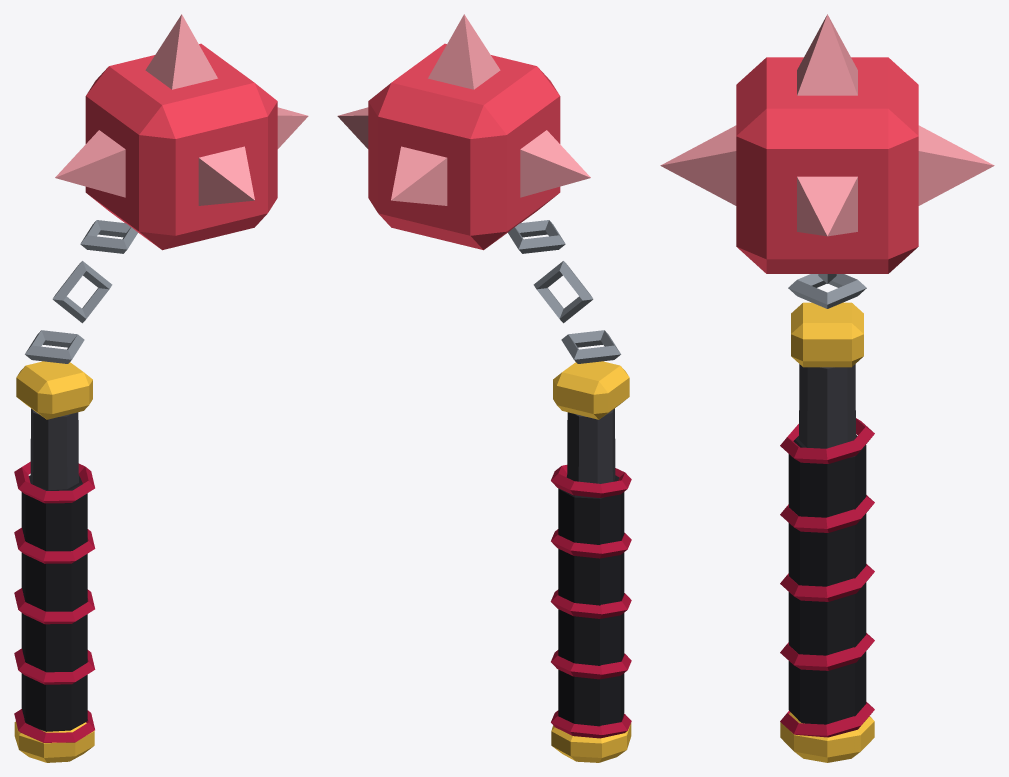
Rendered from RubyFlail.fbx.
3 views of the same model, side by side, from view 1: azimuth 30°, elevation 25°; view 2: azimuth 150°, elevation 25°; view 3: azimuth 270°, elevation 25° (orthographic). The views are drawn at different scales.
Visible parts, largest first — view 1: RubyFlail; view 2: RubyFlail; view 3: RubyFlail.
Boxes of the visible parts, x1,y1,x2,y2 form: RubyFlail: (14,14,308,762); RubyFlail: (337,14,631,762); RubyFlail: (660,14,994,762).
Bounding box in the file's own units: 1.26 × 2.92 × 1.1.
1 material, 1 textured.
